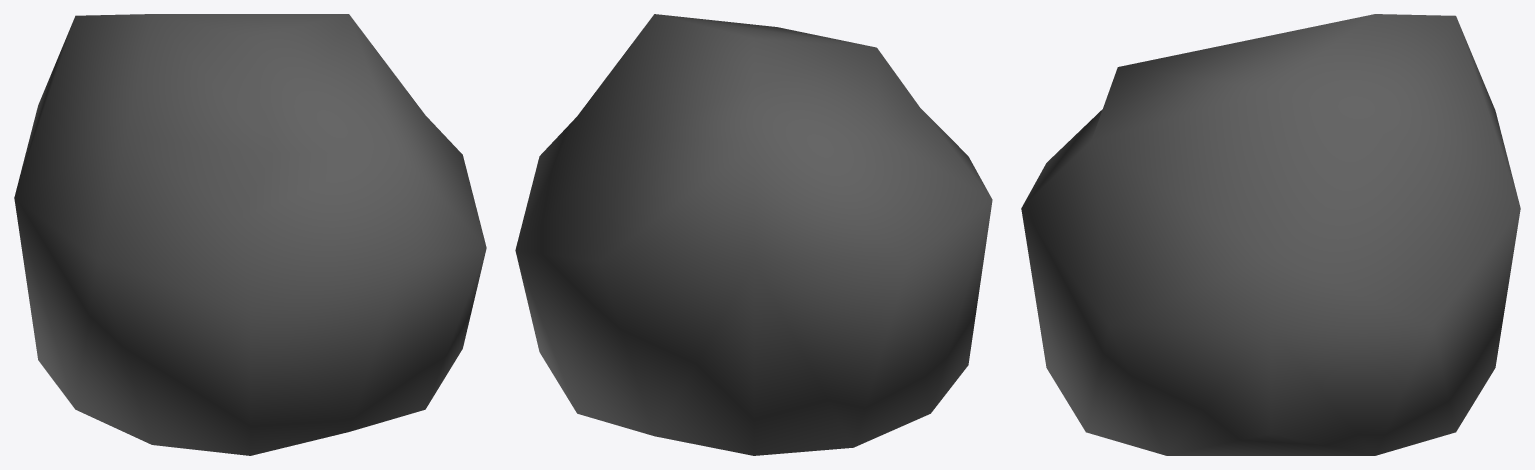
Rendered from Boulder 2.fbx.
3 views of the same model, side by side, from view 1: azimuth 30°, elevation 25°; view 2: azimuth 150°, elevation 25°; view 3: azimuth 270°, elevation 25° (orthographic). The views are drawn at different scales.
Visible parts, largest first — view 1: Boulder 2; view 2: Boulder 2; view 3: Boulder 2.
Part boxes in pixels (left/top/right/bottom): Boulder 2: left=14, top=14, right=486, bottom=455; Boulder 2: left=515, top=14, right=992, bottom=455; Boulder 2: left=1021, top=14, right=1520, bottom=455.
Size of the model in its own units: 26.84 by 20.73 by 26.99.
Materials: 1 (1 with a texture image).
